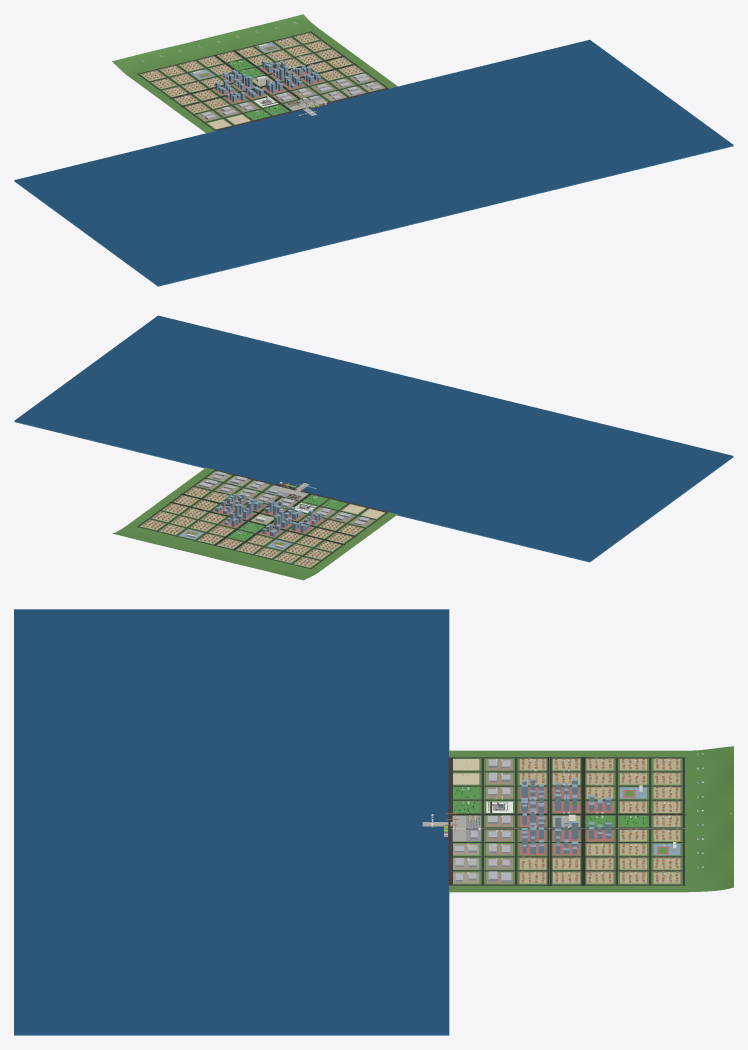
The model's file is town_layout.glb.
3 renders of one model, top to bottom at view 1: azimuth 30°, elevation 25°; view 2: azimuth 150°, elevation 25°; view 3: azimuth 270°, elevation 25°, orthographic. The views are drawn at different scales.
Parts seen in each view (by area): view 1: TOWN_Sea, TOWN_Terrain, TOWN_SeaFloor; view 2: TOWN_Sea, TOWN_Terrain, TOWN_SeaFloor; view 3: TOWN_Sea, TOWN_Terrain, TOWN_SeaFloor.
Part boxes in pixels (<box>): TOWN_Sea: <box>14,39,733,285</box>; TOWN_Terrain: <box>112,14,397,132</box>; TOWN_SeaFloor: <box>14,145,733,286</box>; TOWN_Sea: <box>14,315,733,561</box>; TOWN_Terrain: <box>112,468,397,580</box>; TOWN_SeaFloor: <box>14,421,733,562</box>; TOWN_Sea: <box>14,609,449,1033</box>; TOWN_Terrain: <box>449,746,733,892</box>; TOWN_SeaFloor: <box>14,1034,449,1035</box>.
Size of what is drawn, in the model's own units: 6000 by 212 by 4300.
